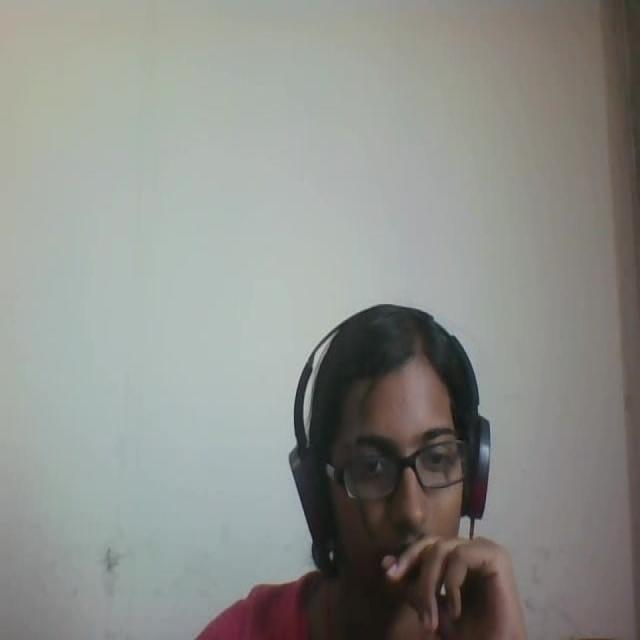Bored: (267, 264, 504, 635)
